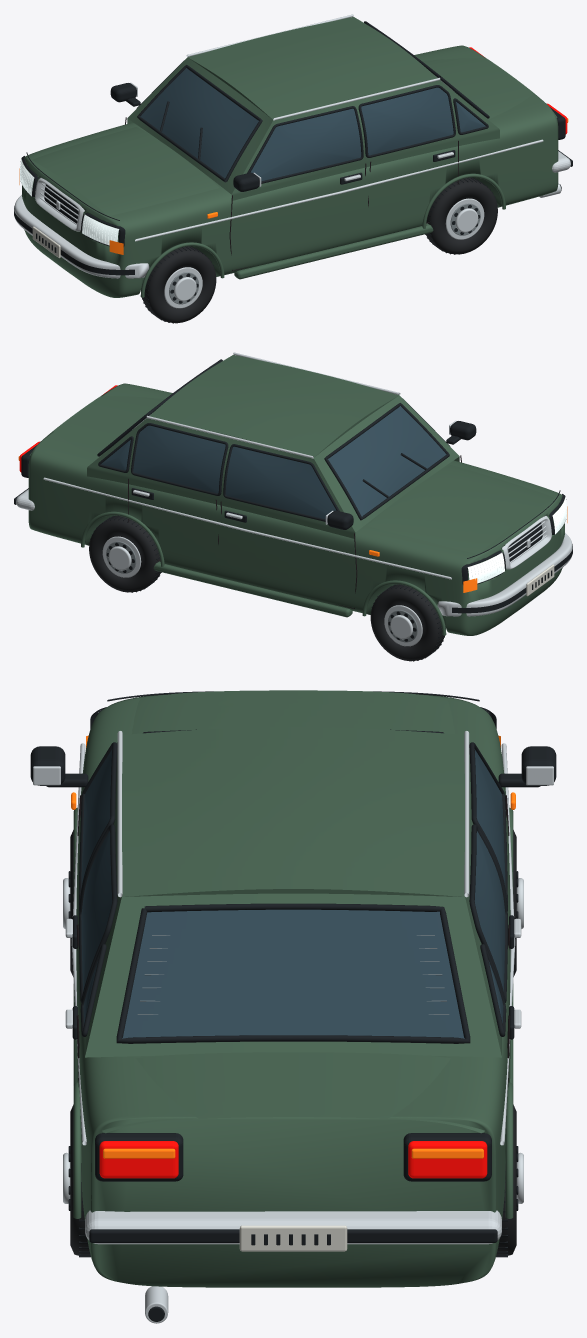
The model's file is pyaterka.glb.
The picture shows the model from 3 angles, top to bottom: view 1: azimuth 30°, elevation 25°; view 2: azimuth 150°, elevation 25°; view 3: azimuth 270°, elevation 25°; orthographic projection. The views are drawn at different scales.
Parts seen in each view (by area): view 1: Body_Paint_pyaterka, Body_Curved smoked glass.003, Body_Black trim.003, Body_Machined aluminium.003, Wheel_FR_Tyre.003, Wheel_RR_Tyre.003, StockBumpers_Machined aluminium.003, StockSkirts_Paint_pyaterka, StockFenders_Paint_pyaterka, Wheel_RR_Machined aluminium.003, Body_Prismatic headlight glass.003, Wheel_FR_Machined aluminium.003 (+1 smaller); view 2: Body_Paint_pyaterka, Body_Curved smoked glass.003, Body_Black trim.003, Body_Machined aluminium.003, Wheel_FL_Tyre.003, Wheel_RL_Tyre.003, StockBumpers_Machined aluminium.003, StockSkirts_Paint_pyaterka, StockFenders_Paint_pyaterka, Wheel_RL_Machined aluminium.003, Body_Prismatic headlight glass.003, Wheel_FL_Machined aluminium.003 (+1 smaller); view 3: Body_Paint_pyaterka, Body_Curved smoked glass.003, Body_Black trim.003, StockBumpers_Machined aluminium.003, Body_Machined aluminium.003, Body_Red lens.003, StockBumpers_Black trim.003, StockFenders_Paint_pyaterka, Body_Numberplate.003, Body_Amber lens.003, Wheel_RL_Tyre.003, Wheel_RR_Tyre.003.
Part boxes in pixels (x1,y1,x2,y2): Body_Paint_pyaterka: (22,17,558,297); Body_Curved smoked glass.003: (140,68,485,181); Body_Black trim.003: (20,21,565,252); Body_Machined aluminium.003: (35,14,561,241); Wheel_FR_Tyre.003: (141,246,216,323); Wheel_RR_Tyre.003: (426,177,497,254); StockBumpers_Machined aluminium.003: (14,151,570,278); StockSkirts_Paint_pyaterka: (234,223,433,279); StockFenders_Paint_pyaterka: (140,173,505,297); Wheel_RR_Machined aluminium.003: (445,198,484,239); Body_Prismatic headlight glass.003: (20,158,119,245); Wheel_FR_Machined aluminium.003: (164,267,202,308); Body_Paint_pyaterka: (28,355,564,635); Body_Curved smoked glass.003: (101,406,446,519); Body_Black trim.003: (21,359,566,589); Body_Machined aluminium.003: (43,352,551,579); Wheel_FL_Tyre.003: (370,584,445,661); Wheel_RL_Tyre.003: (89,515,160,592); StockBumpers_Machined aluminium.003: (16,489,572,616); StockSkirts_Paint_pyaterka: (153,561,352,617); StockFenders_Paint_pyaterka: (81,511,446,635); Wheel_RL_Machined aluminium.003: (102,536,141,577); Body_Prismatic headlight glass.003: (467,496,566,583); Wheel_FL_Machined aluminium.003: (384,605,422,646); Body_Paint_pyaterka: (76,690,510,1287); Body_Curved smoked glass.003: (81,749,505,1038); Body_Black trim.003: (30,691,556,1321); StockBumpers_Machined aluminium.003: (85,1210,501,1244); Body_Machined aluminium.003: (33,731,553,1323); Body_Red lens.003: (99,1141,487,1178); StockBumpers_Black trim.003: (89,1229,497,1242); StockFenders_Paint_pyaterka: (73,807,513,1218); Body_Numberplate.003: (239,1225,347,1251); Body_Amber lens.003: (71,735,515,1158); Wheel_RL_Tyre.003: (496,1104,516,1256); Wheel_RR_Tyre.003: (70,1104,90,1256).
Size of the model in its own units: 4.14 by 1.45 by 1.96.
